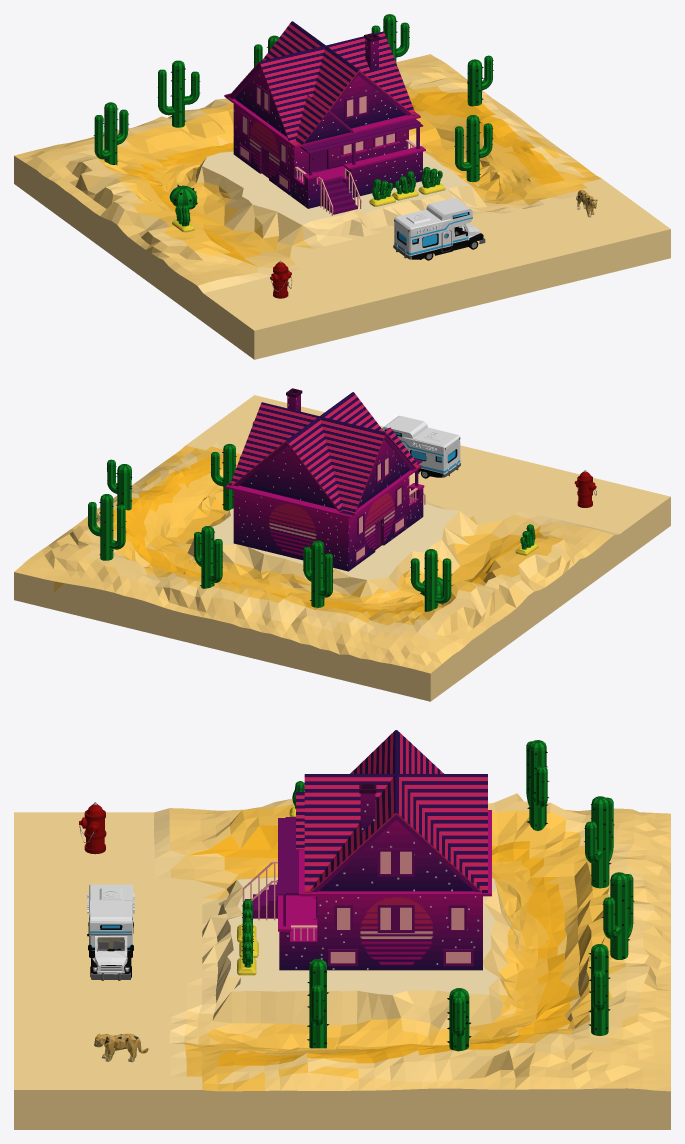
The picture shows the model from 3 angles, top to bottom: view 1: azimuth 30°, elevation 25°; view 2: azimuth 150°, elevation 25°; view 3: azimuth 270°, elevation 25°; orthographic projection. The views are drawn at different scales.
Parts seen in each view (by area): view 1: Cube.001, Cube.156, VEHICLES_CAMPER, Cylinder.037, Cylinder.044, Cylinder.045, Cylinder.038, Cylinder.042, OBJRANDOM_FIRE_HYDRANT, Cylinder.039, Cylinder.041, Sphere.023 (+1 smaller); view 2: Cube.001, Cube.156, VEHICLES_CAMPER, Cylinder.042, Cylinder.045, Cylinder.044, Cylinder.043, Cylinder.037, Cylinder.038, OBJRANDOM_FIRE_HYDRANT; view 3: Cube.001, Cube.156, VEHICLES_CAMPER, Cylinder.043, Cylinder.044, Cylinder.045, Cylinder.042, Cylinder.037, Cylinder.038, OBJRANDOM_FIRE_HYDRANT, ANIMAL_JAGUAR, Cylinder.041.
Part boxes in pixels (x1=…): Cube.001: x1=14, y1=54, x2=670, y2=359; Cube.156: x1=224, y1=21, x2=425, y2=215; VEHICLES_CAMPER: x1=393, y1=198, x2=485, y2=260; Cylinder.037: x1=454, y1=115, x2=493, y2=182; Cylinder.044: x1=157, y1=60, x2=200, y2=127; Cylinder.045: x1=93, y1=102, x2=129, y2=164; Cylinder.038: x1=467, y1=55, x2=493, y2=106; Cylinder.042: x1=371, y1=14, x2=409, y2=62; OBJRANDOM_FIRE_HYDRANT: x1=270, y1=260, x2=292, y2=298; Cylinder.039: x1=369, y1=179, x2=395, y2=206; Cylinder.041: x1=418, y1=167, x2=445, y2=194; Sphere.023: x1=169, y1=184, x2=197, y2=209; Cube.001: x1=14, y1=395, x2=670, y2=701; Cube.156: x1=225, y1=388, x2=425, y2=571; VEHICLES_CAMPER: x1=382, y1=415, x2=460, y2=478; Cylinder.042: x1=88, y1=494, x2=126, y2=560; Cylinder.045: x1=410, y1=549, x2=452, y2=611; Cylinder.044: x1=303, y1=540, x2=333, y2=607; Cylinder.043: x1=193, y1=526, x2=222, y2=588; Cylinder.037: x1=211, y1=444, x2=240, y2=510; Cylinder.038: x1=107, y1=459, x2=131, y2=510; OBJRANDOM_FIRE_HYDRANT: x1=574, y1=470, x2=596, y2=507; Cube.001: x1=14, y1=793, x2=670, y2=1129; Cube.156: x1=242, y1=730, x2=491, y2=970; VEHICLES_CAMPER: x1=87, y1=884, x2=134, y2=980; Cylinder.043: x1=602, y1=872, x2=634, y2=959; Cylinder.044: x1=584, y1=796, x2=614, y2=888; Cylinder.045: x1=526, y1=740, x2=549, y2=830; Cylinder.042: x1=588, y1=944, x2=610, y2=1035; Cylinder.037: x1=307, y1=959, x2=329, y2=1048; Cylinder.038: x1=447, y1=988, x2=471, y2=1051; OBJRANDOM_FIRE_HYDRANT: x1=79, y1=802, x2=106, y2=854; ANIMAL_JAGUAR: x1=94, y1=1033, x2=148, y2=1062; Cylinder.041: x1=237, y1=932, x2=256, y2=975.
Bounding box in the file's own units: 4002 × 1779 × 4001.
33 materials, 4 textured.
